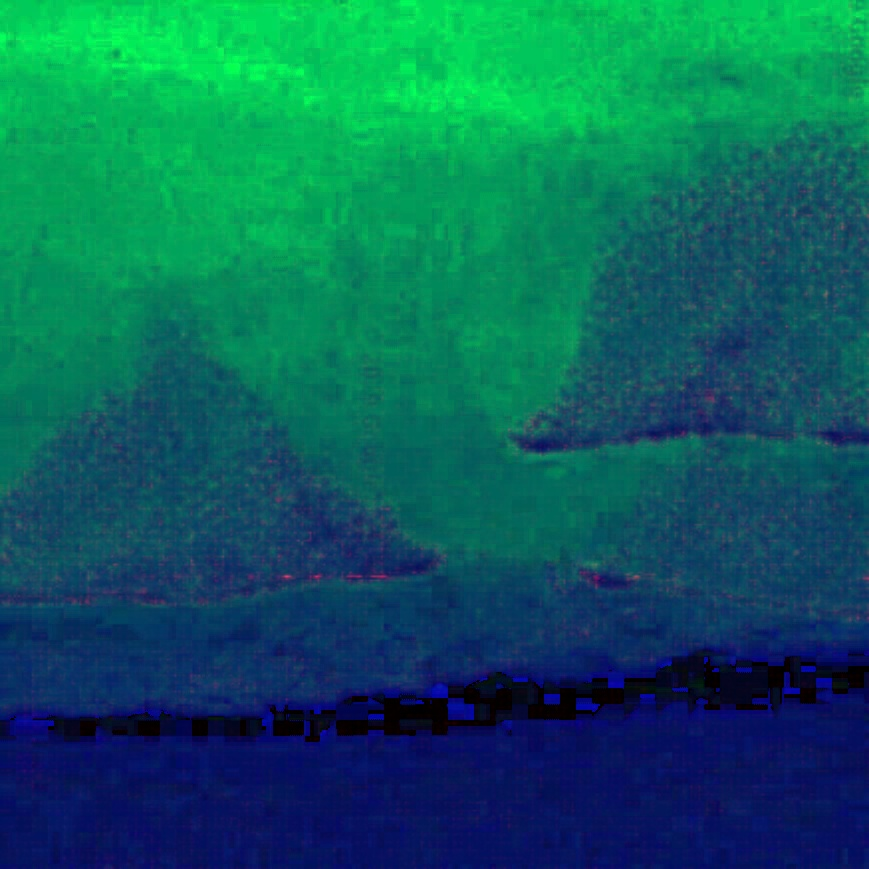rip_current: (211, 190, 624, 626)
